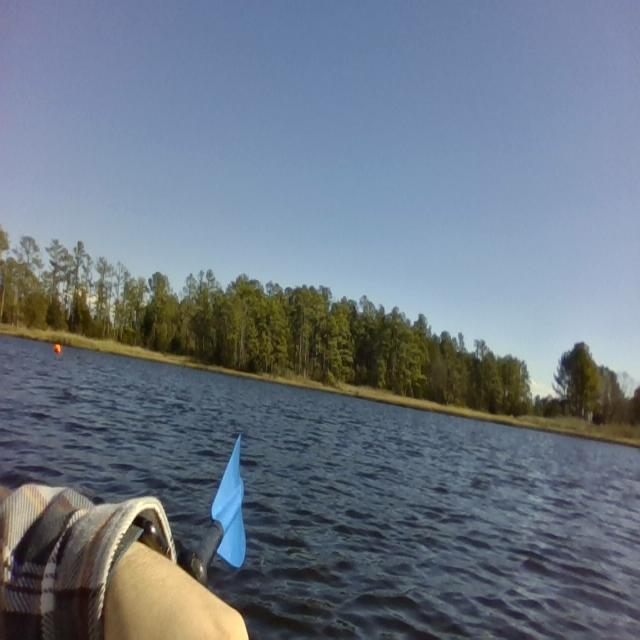Buoy: (52, 337, 64, 362)
